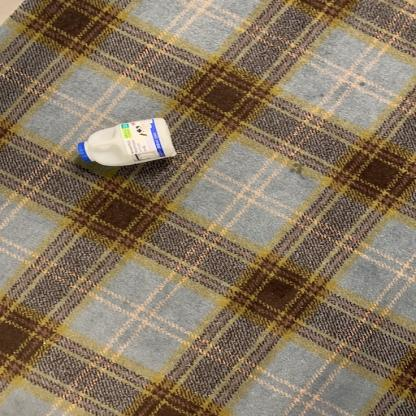trash: (76, 116, 182, 171)
